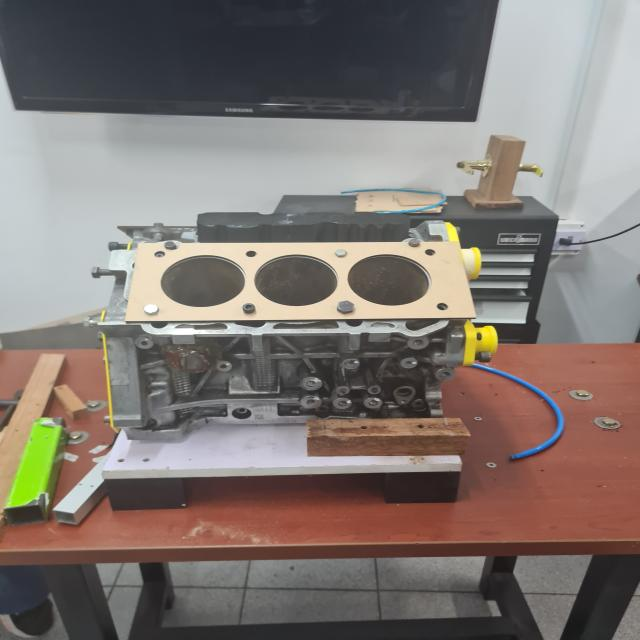vista1: (123, 242, 475, 321)
